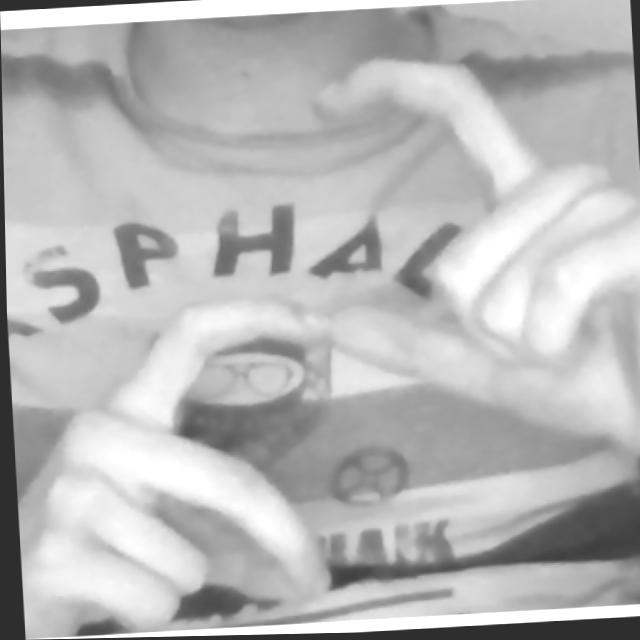S_: (1, 40, 640, 639)
